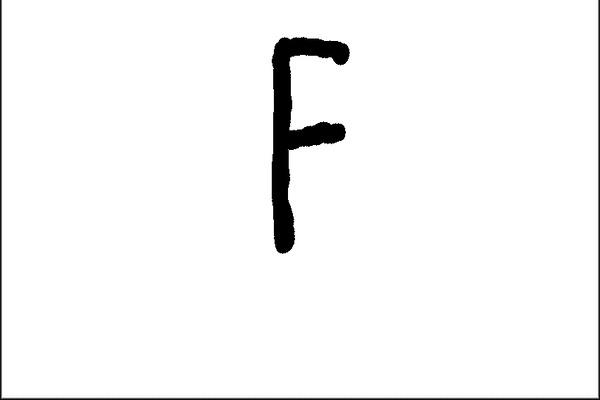F: (265, 33, 356, 258)
